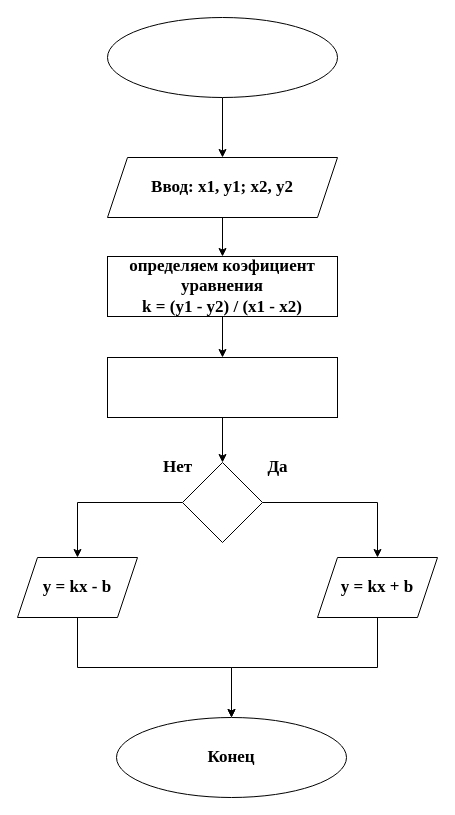
This 455x815 diagram has some shape labels left out. Here are the shapes that lost their labels. From the top down, the box of each, then its label:
(106, 16, 338, 98): Начало
(106, 356, 338, 418): определяем точку пересечения оси y b = y1 - k * x1
(182, 462, 262, 542): b > 0
